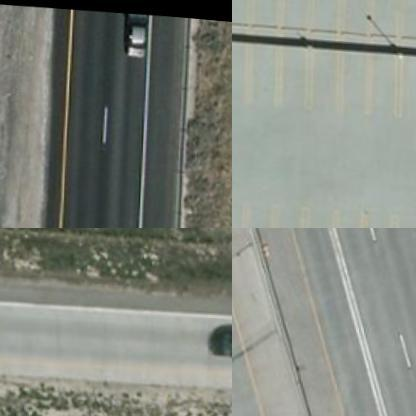car: (119, 8, 148, 50), (204, 322, 231, 354)
